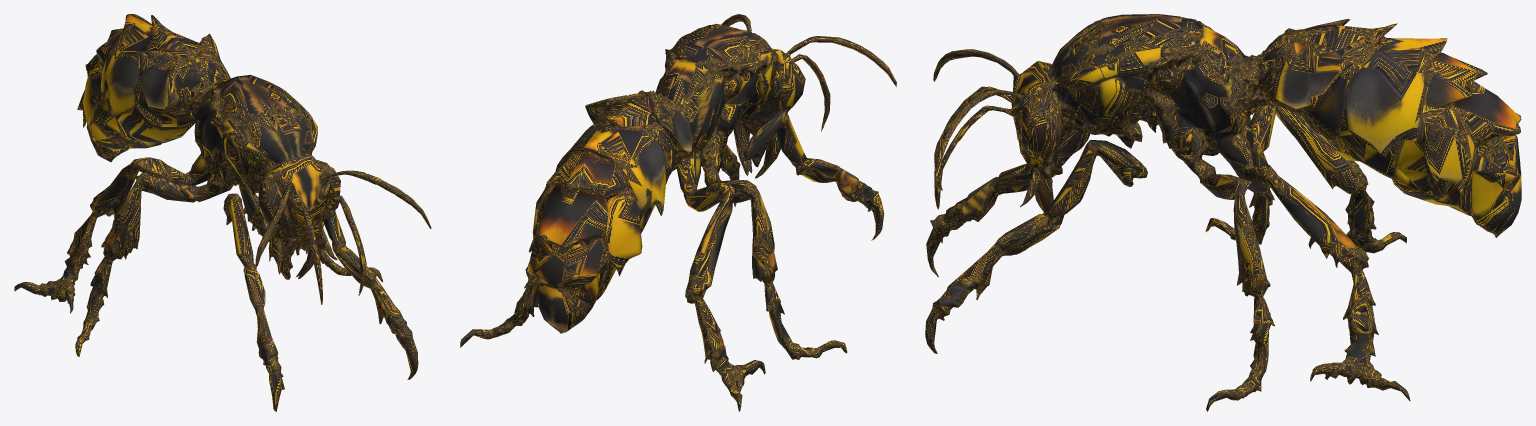
File: giant-wasp.glb
3 views of the same model, side by side, from view 1: azimuth 30°, elevation 25°; view 2: azimuth 150°, elevation 25°; view 3: azimuth 270°, elevation 25° (orthographic). The views are drawn at different scales.
Size of the model in its own units: 1.42 by 1.13 by 1.99.
1 material, 1 textured.
